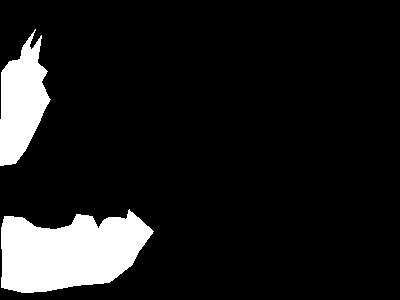Fire: (1, 206, 150, 300), (1, 31, 53, 166)
